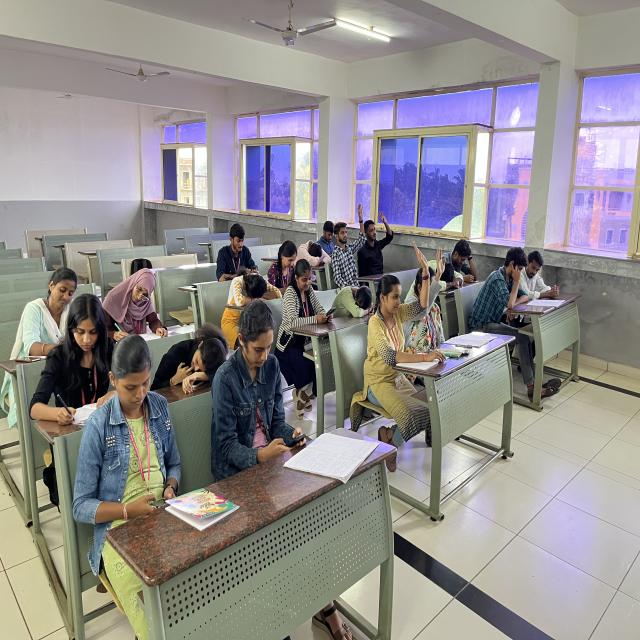Sleeping: (336, 267, 376, 321), (225, 268, 284, 304)
Using Phone: (74, 334, 212, 546), (210, 294, 330, 472), (365, 240, 440, 384), (277, 253, 340, 343), (319, 198, 370, 286), (211, 213, 270, 277)
Writing: (28, 278, 122, 428)
